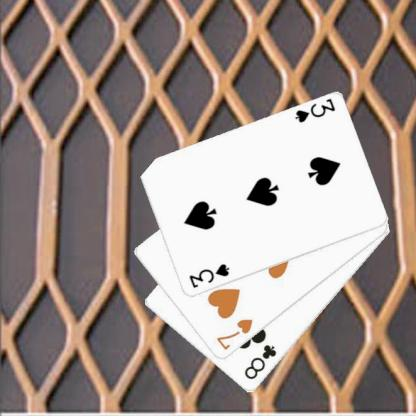3S: (186, 261, 231, 290), (292, 96, 337, 125)
7H: (213, 316, 255, 352)
8C: (242, 342, 278, 381)
